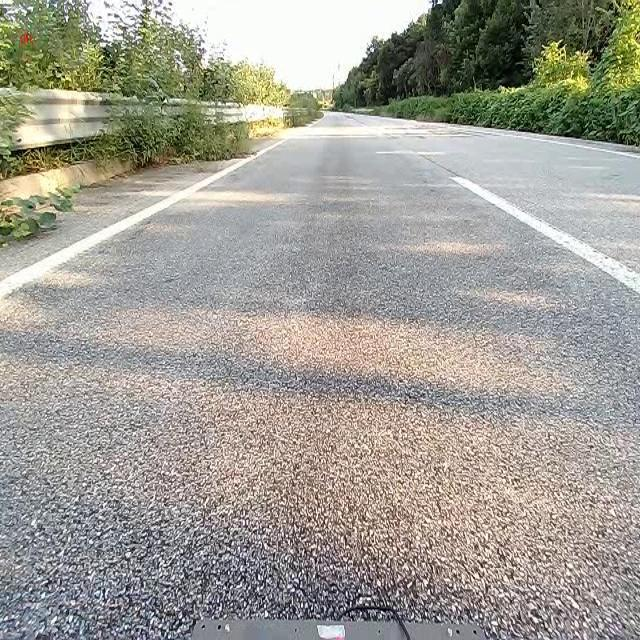Lane: (0, 134, 286, 303), (0, 141, 285, 303), (446, 166, 640, 301), (449, 176, 639, 296)
